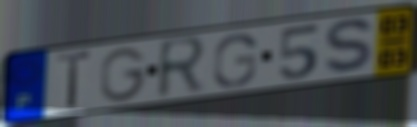5: (276, 21, 323, 82)
G: (99, 46, 150, 104), (210, 32, 259, 90)
R: (155, 34, 211, 103)
S: (321, 17, 379, 77)
T: (53, 49, 95, 112)
